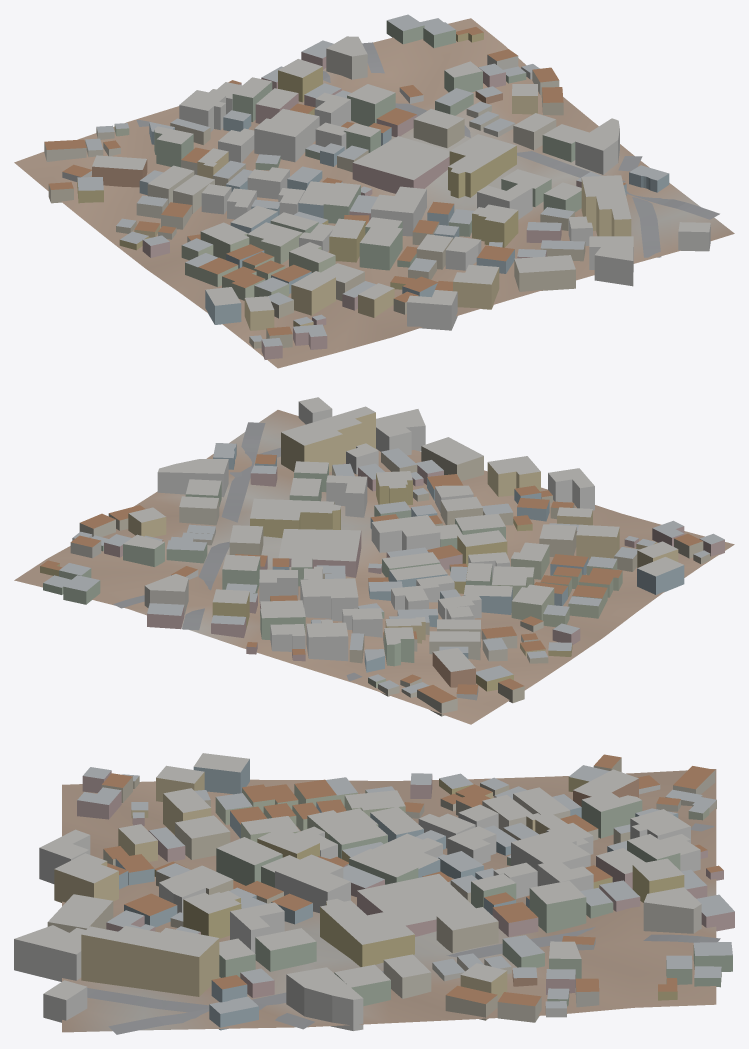
3 renders of one model, top to bottom at view 1: azimuth 30°, elevation 25°; view 2: azimuth 150°, elevation 25°; view 3: azimuth 270°, elevation 25°, orthographic. The views are drawn at different scales.
Visible parts, largest first — view 1: Lo; view 2: Lo; view 3: Lo.
Boxes of the visible parts, <box> form: Lo: <box>14,14,734,368</box>; Lo: <box>14,397,734,724</box>; Lo: <box>14,753,734,1034</box>.
Bounding box in the file's own units: 265 × 33.95 × 282.
